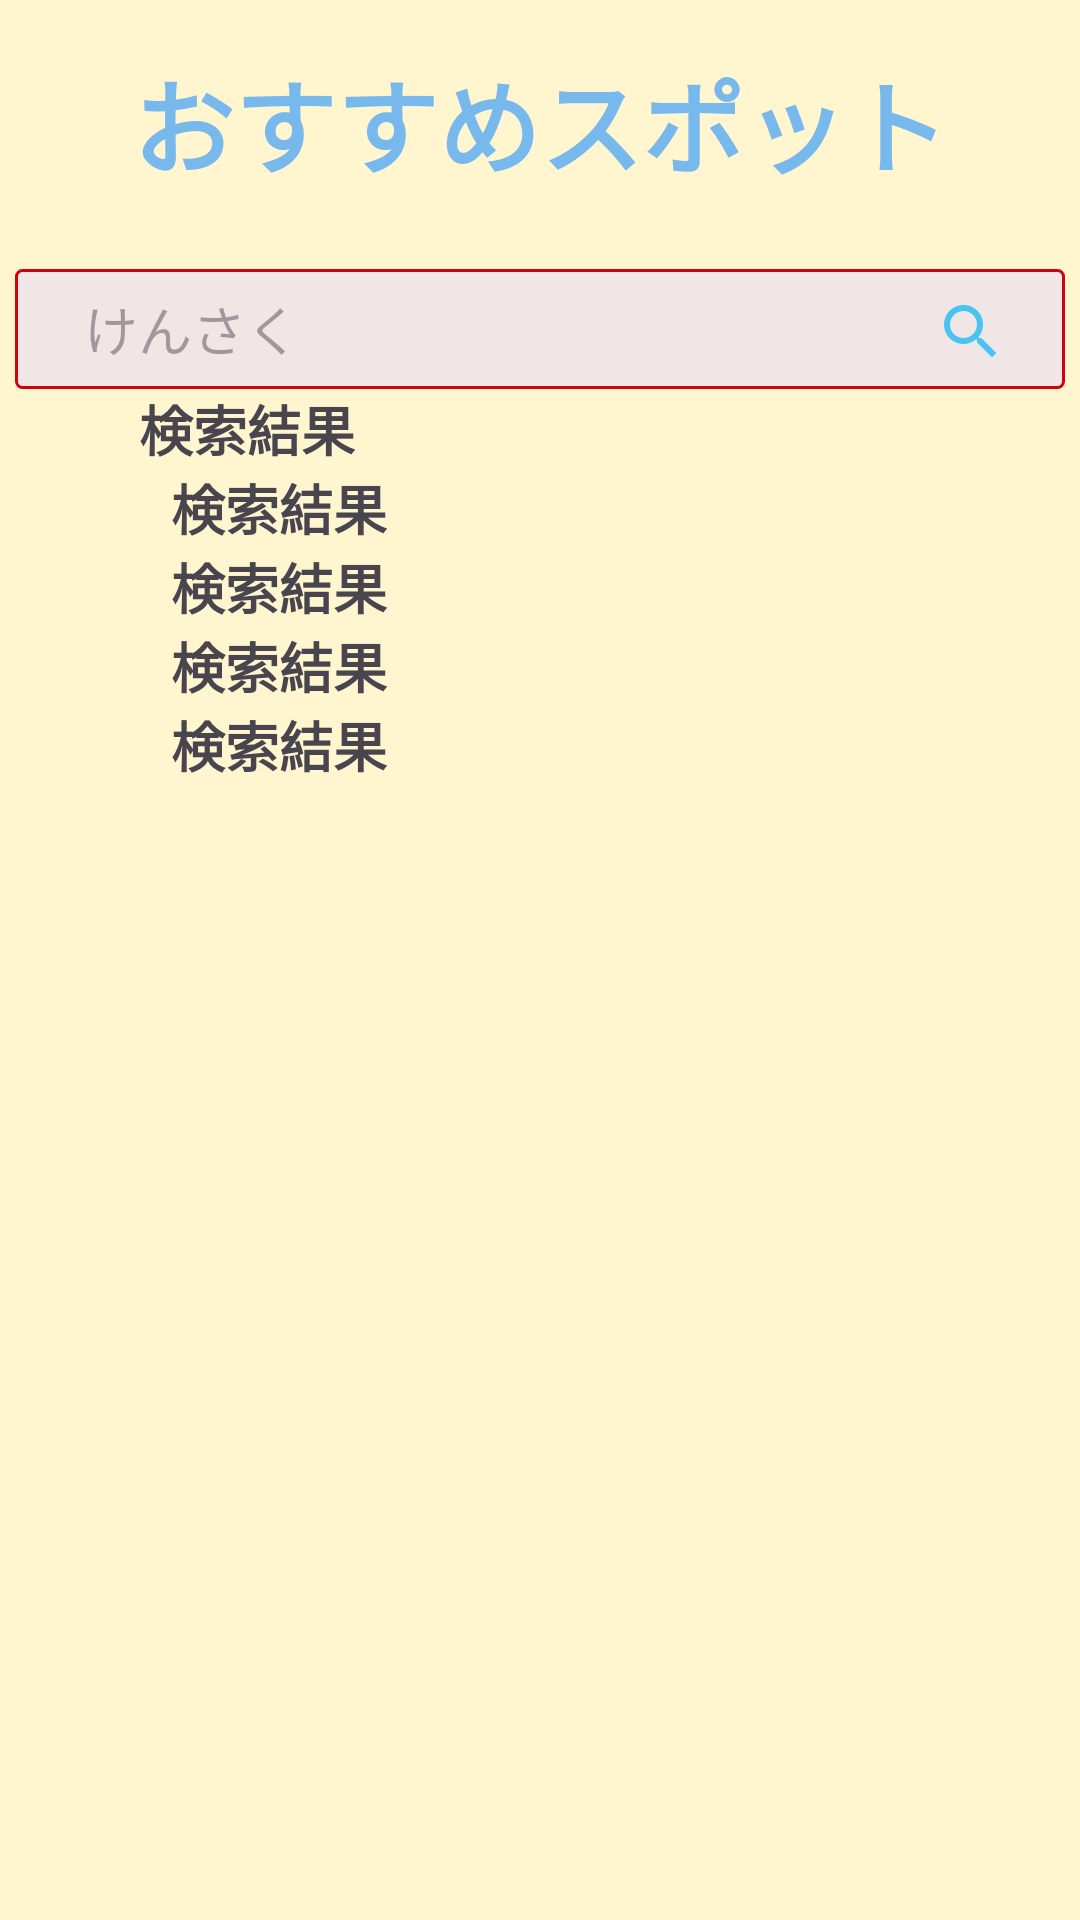

Point at icon controls on the screen. Image size 1080×1920, points as point (x, y).
search: point (970, 330)
